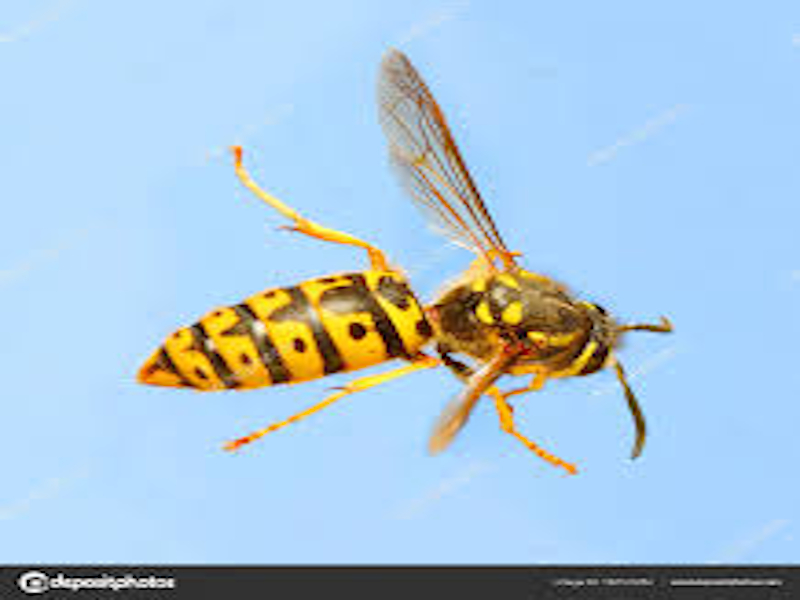chax: (114, 38, 683, 480)
